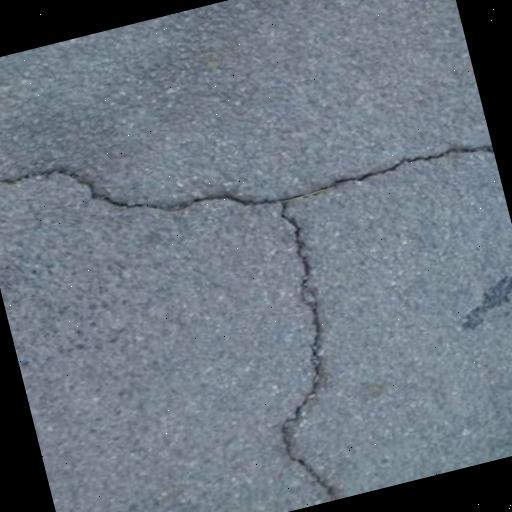spalling: (0, 130, 485, 227), (256, 206, 356, 505)
